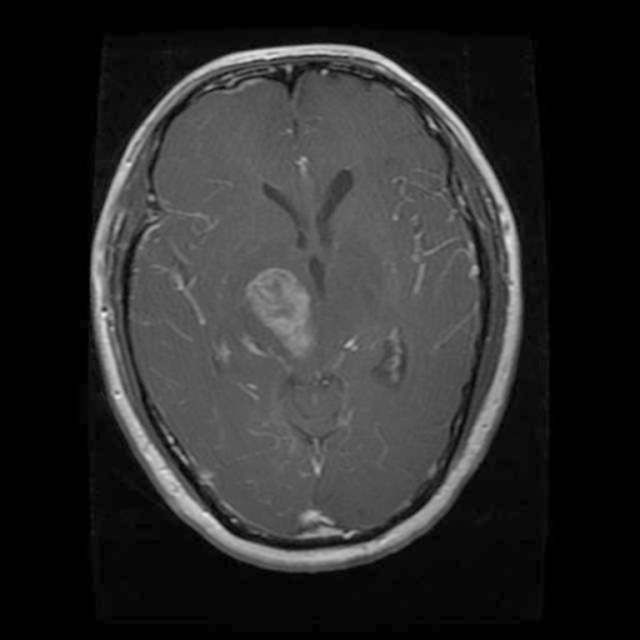pituitary tumor: (242, 268, 326, 352)
